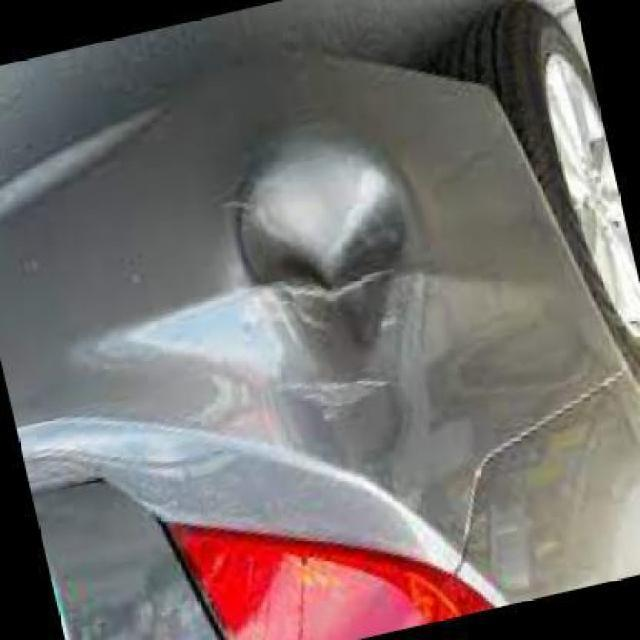dent: (157, 278, 397, 449)
